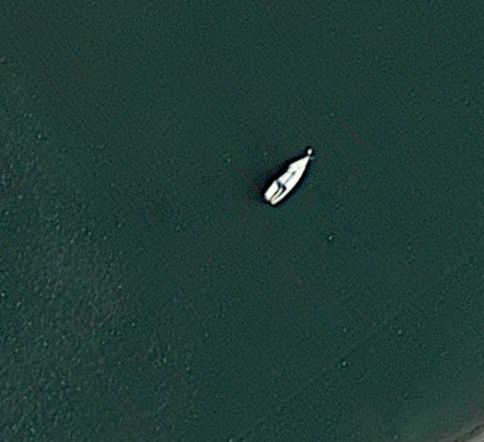boat: (263, 149, 314, 210)
